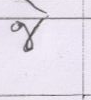e_matra: (21, 0, 51, 16)
